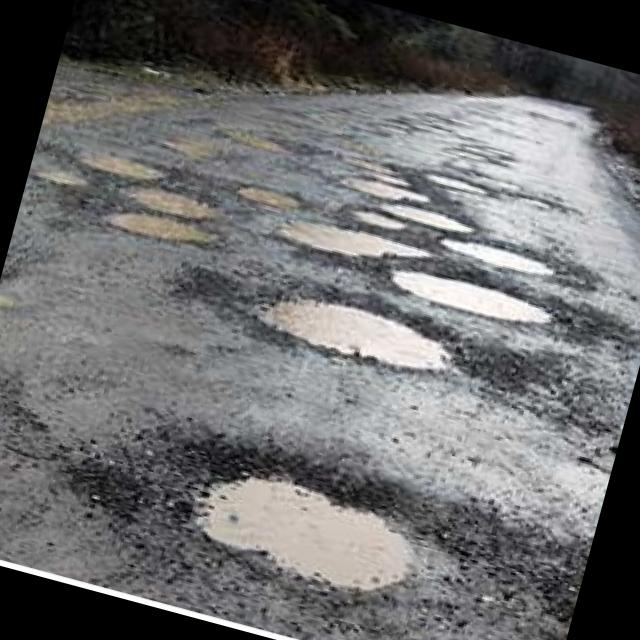Potholes: (76, 384, 600, 640), (215, 255, 526, 430), (371, 252, 571, 342), (328, 151, 480, 256), (270, 200, 442, 280), (417, 221, 590, 298), (101, 199, 239, 262), (96, 162, 230, 226), (68, 134, 177, 200), (482, 180, 588, 230), (215, 120, 311, 175), (413, 158, 490, 210), (36, 156, 116, 202), (232, 172, 306, 214)
